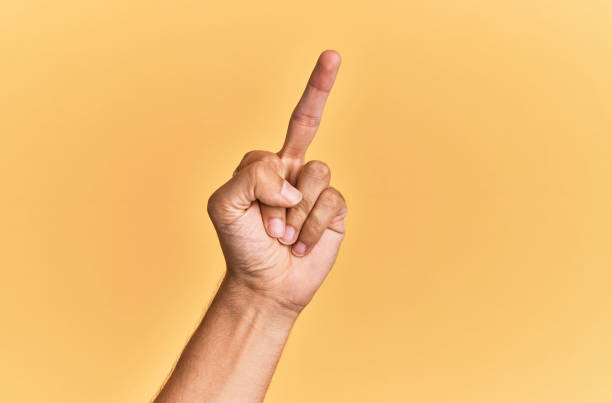insulting_gesture: (205, 48, 349, 306)
